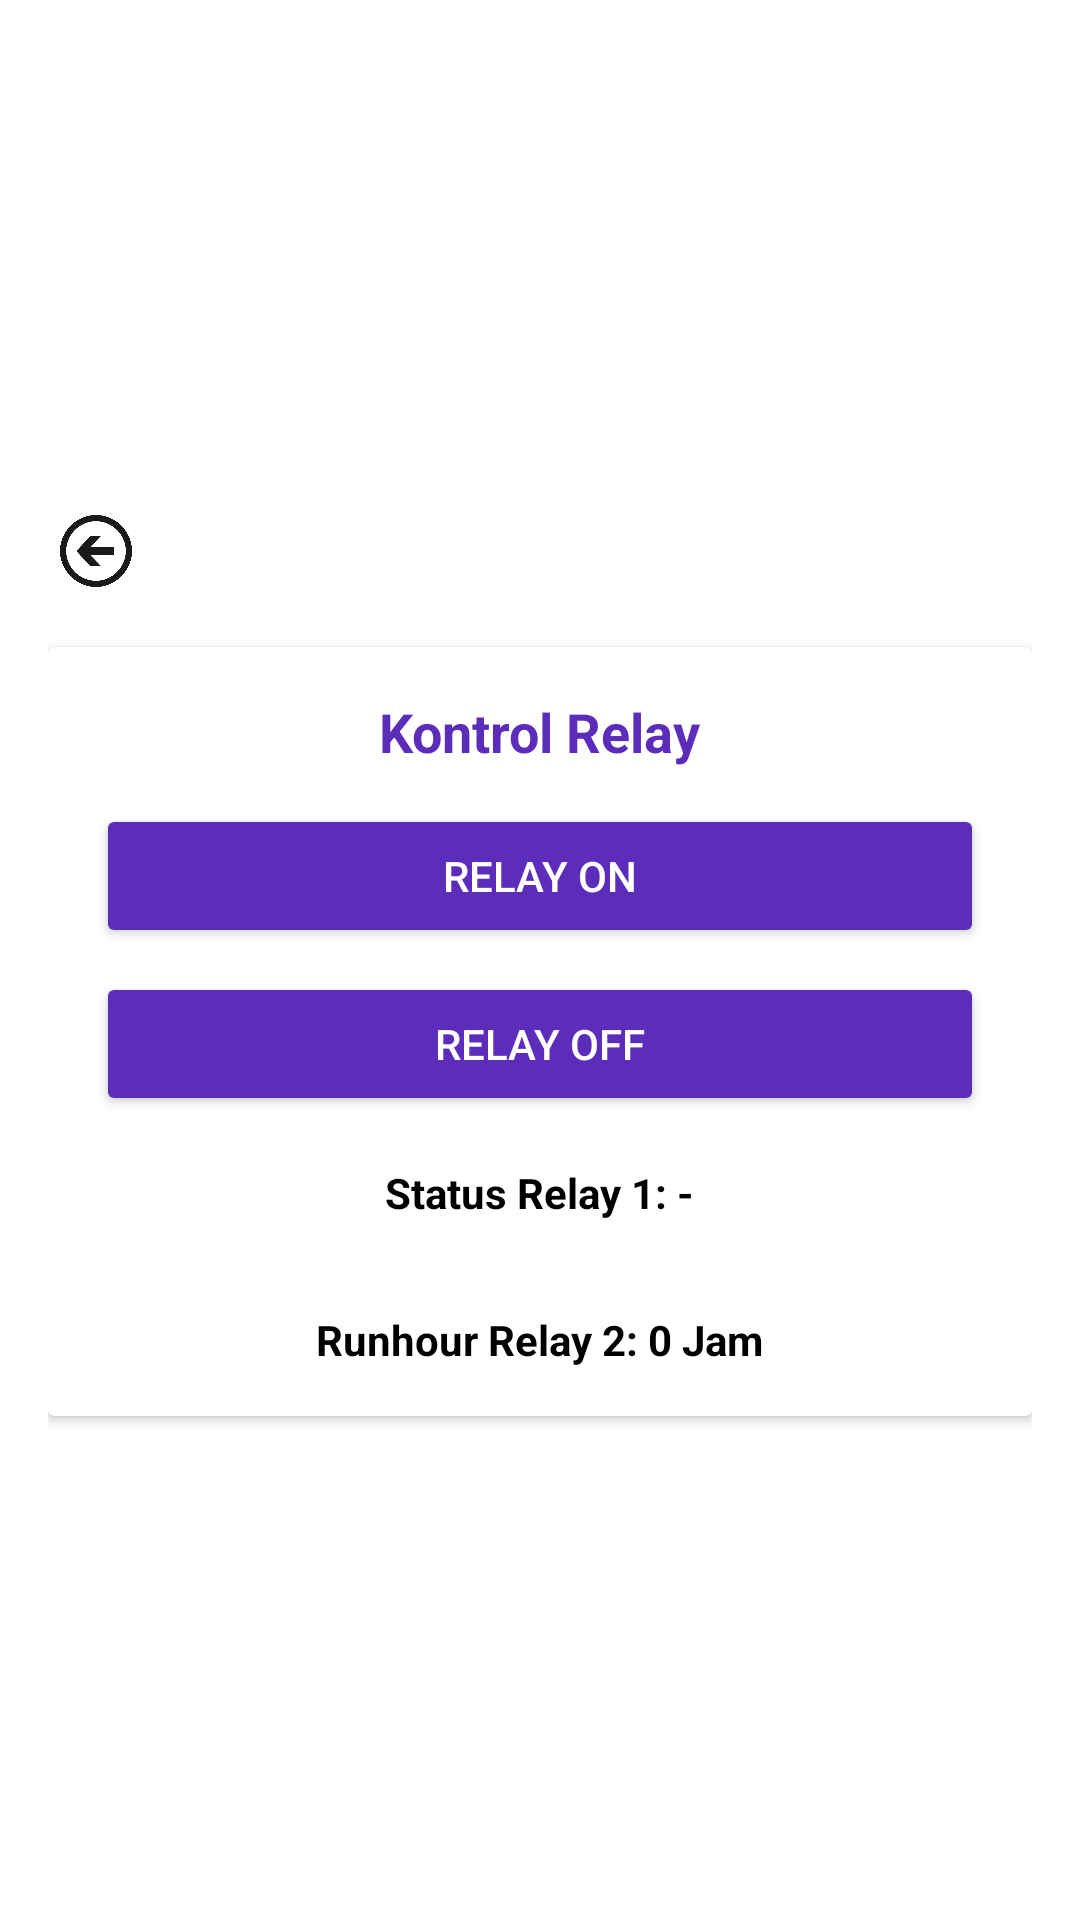

Where to tap for icons on this 1080 × 1920 app screen, as (x,y):
Kembali: (96,551)
